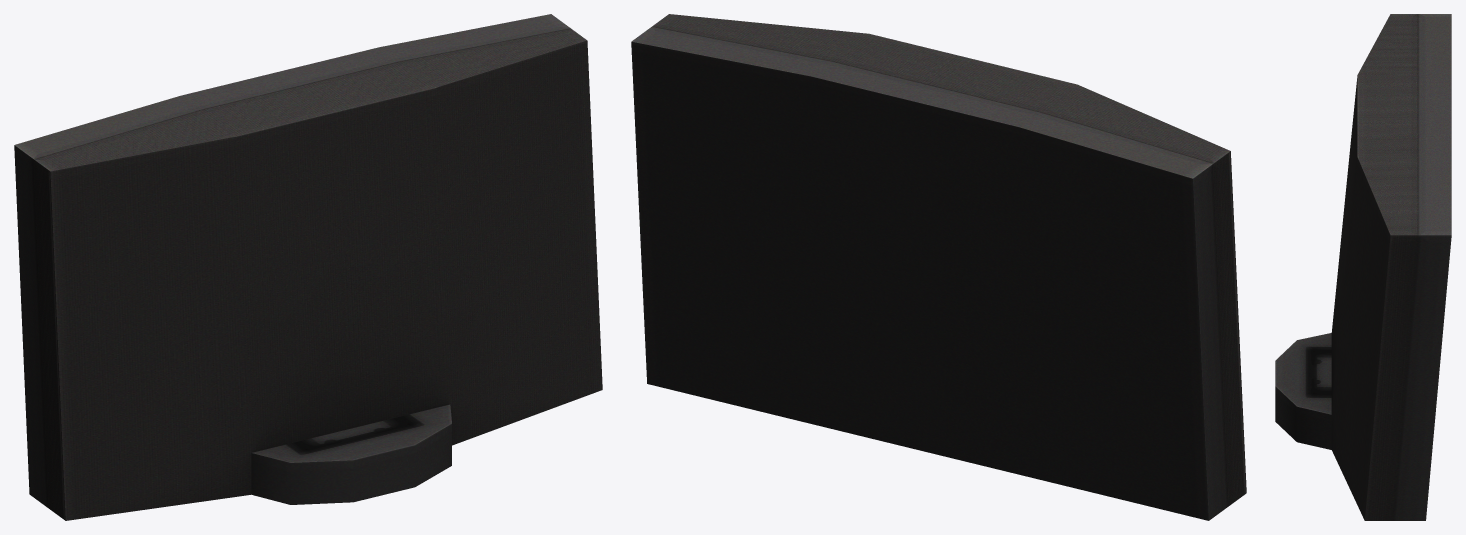
File: Sun_0075_Sound_dock.fbx
The picture shows the model from 3 angles, left to right: view 1: azimuth 30°, elevation 25°; view 2: azimuth 150°, elevation 25°; view 3: azimuth 270°, elevation 25°; orthographic projection. The views are drawn at different scales.
Visible parts, largest first — view 1: Sun_0075_Sound_dock; view 2: Sun_0075_Sound_dock; view 3: Sun_0075_Sound_dock.
Boxes of the visible parts, x1,y1,x2,y2 form: Sun_0075_Sound_dock: [14, 14, 602, 520]; Sun_0075_Sound_dock: [631, 14, 1246, 520]; Sun_0075_Sound_dock: [1275, 14, 1451, 520].
Bounding box in the file's own units: 37.64 × 23.24 × 12.68.
